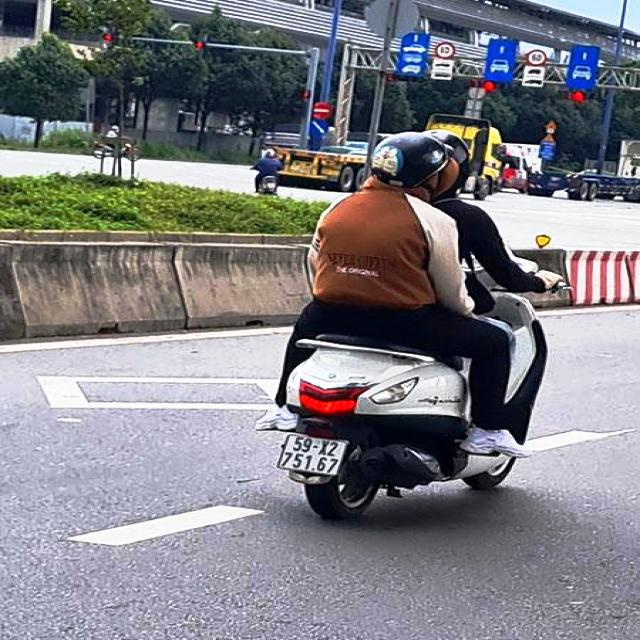license_plate: (279, 435, 349, 477)
